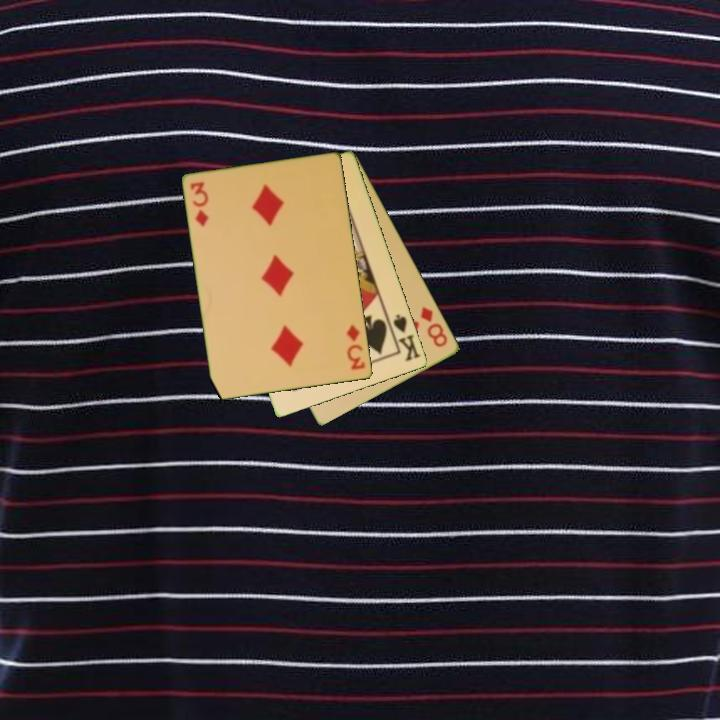3d: (343, 321, 368, 373), (187, 179, 212, 230)
8d: (417, 303, 451, 350)
Ks: (384, 311, 423, 364)
